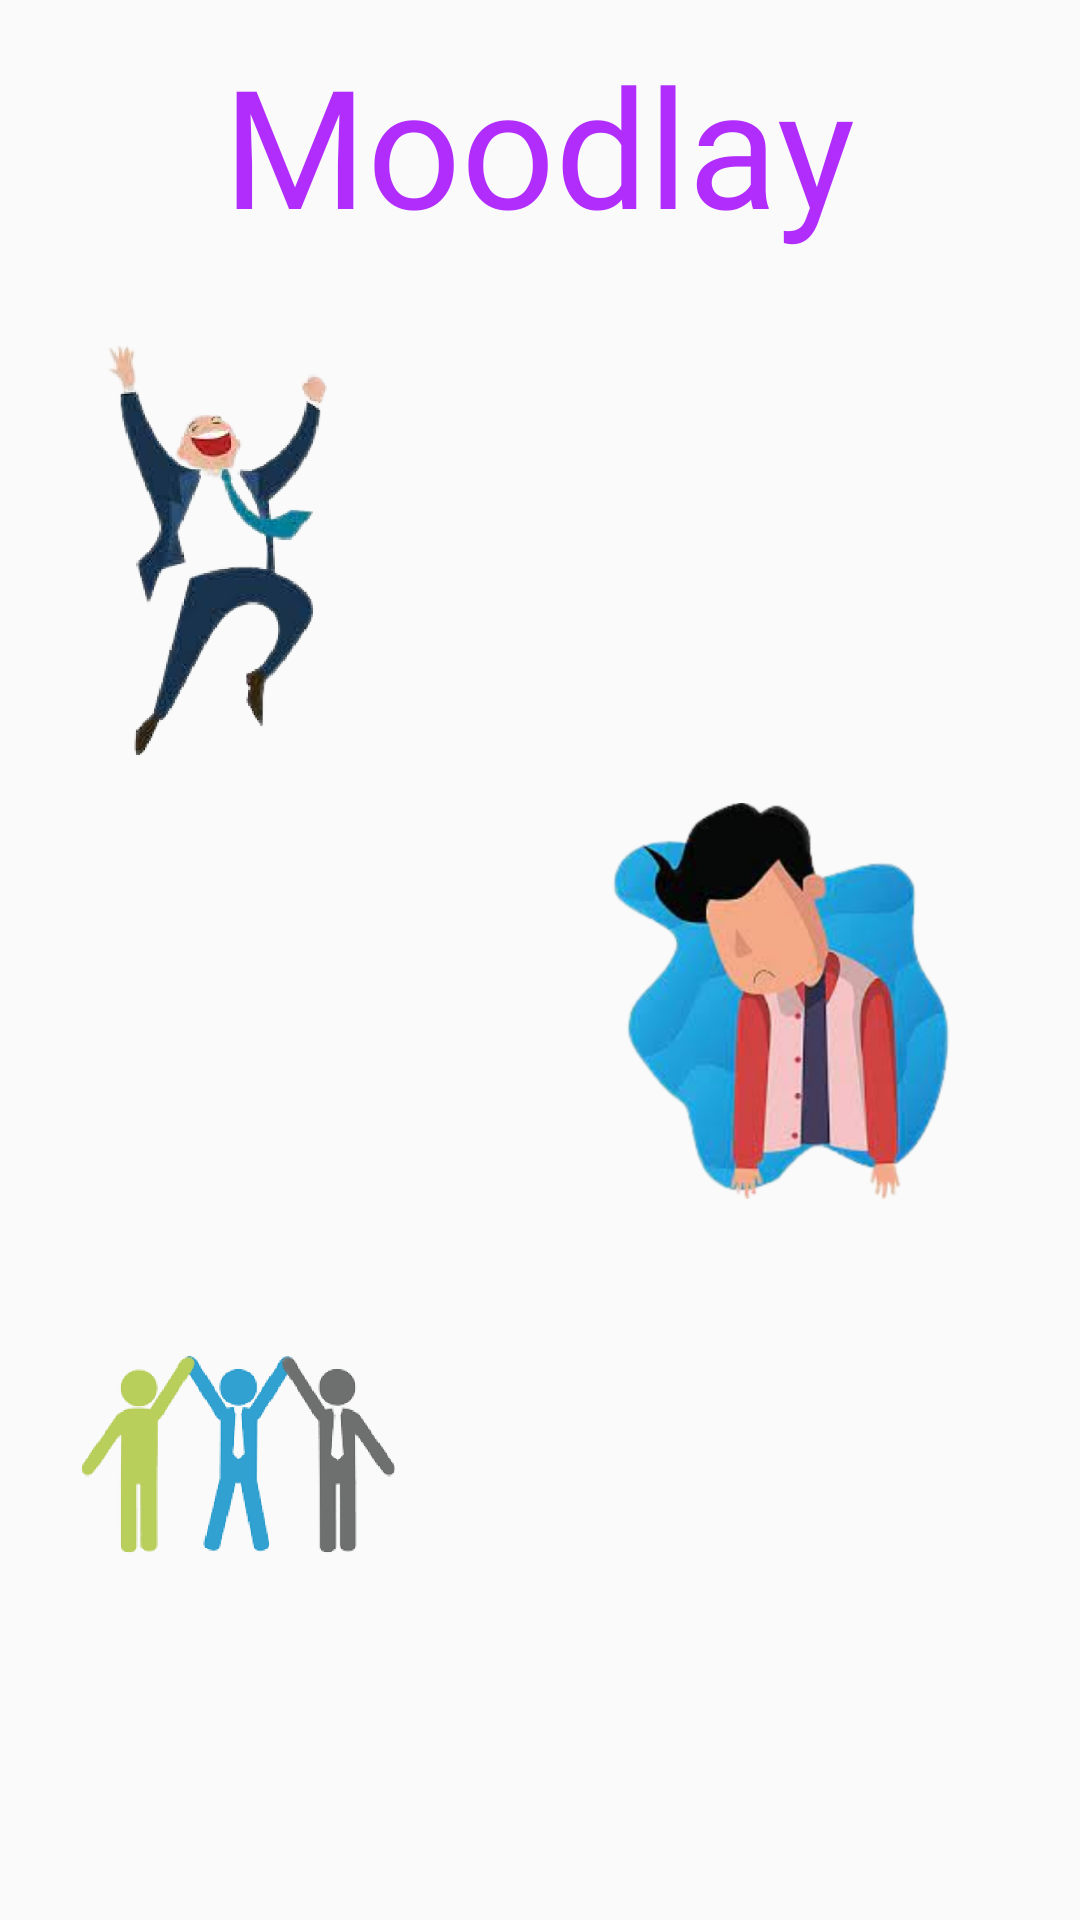

Icons on this 1080 × 1920 Android screen, each with its box as (left=x1, top=y1, right=x2, bottom=y2):
moti: (left=82, top=1356, right=395, bottom=1552)
